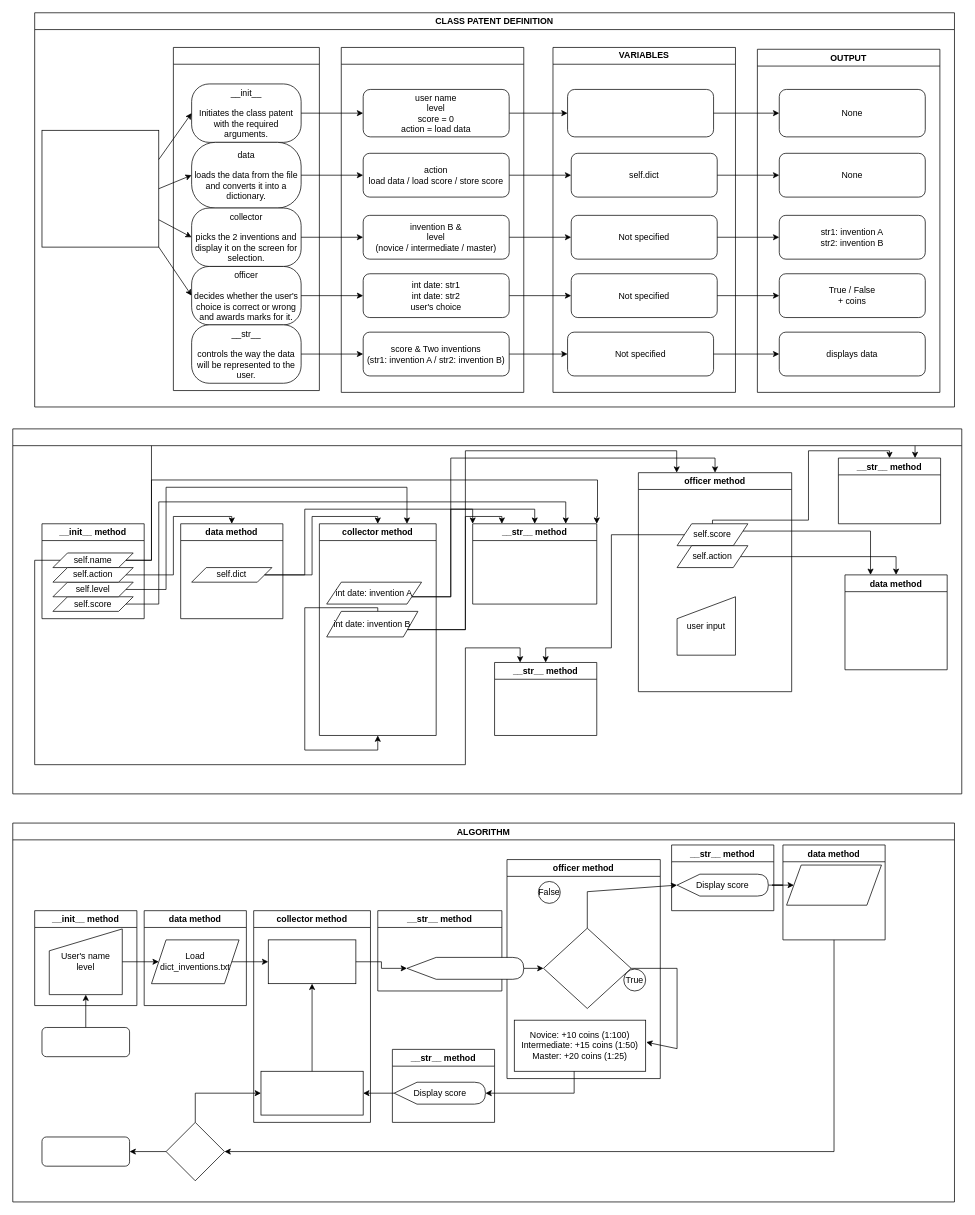
Some shapes in this 975 by 1215 pixel diagram are drawn without their labels. The centre of each missing label's shape, as x and y in pixels:
choose Two inventions (level): (312,961)
class patent: __init__ data collector officer display: (100,188)
DATA FLOW CAHT: (487,611)
Display inventions A & B: (465,968)
INPUTS: (432,219)
Invention A or Invention B: (587,967)
Invention B = A new invention B is selected: (311,1093)
METHOD DESCRIPTION: (246,219)
Program begins: (85,1042)
Program ends: (85,1151)
replay or exit: (194,1151)
self.name: str self.level: int self.score: int self.action: str: (640,113)
store highest score user.txt: (833,884)
